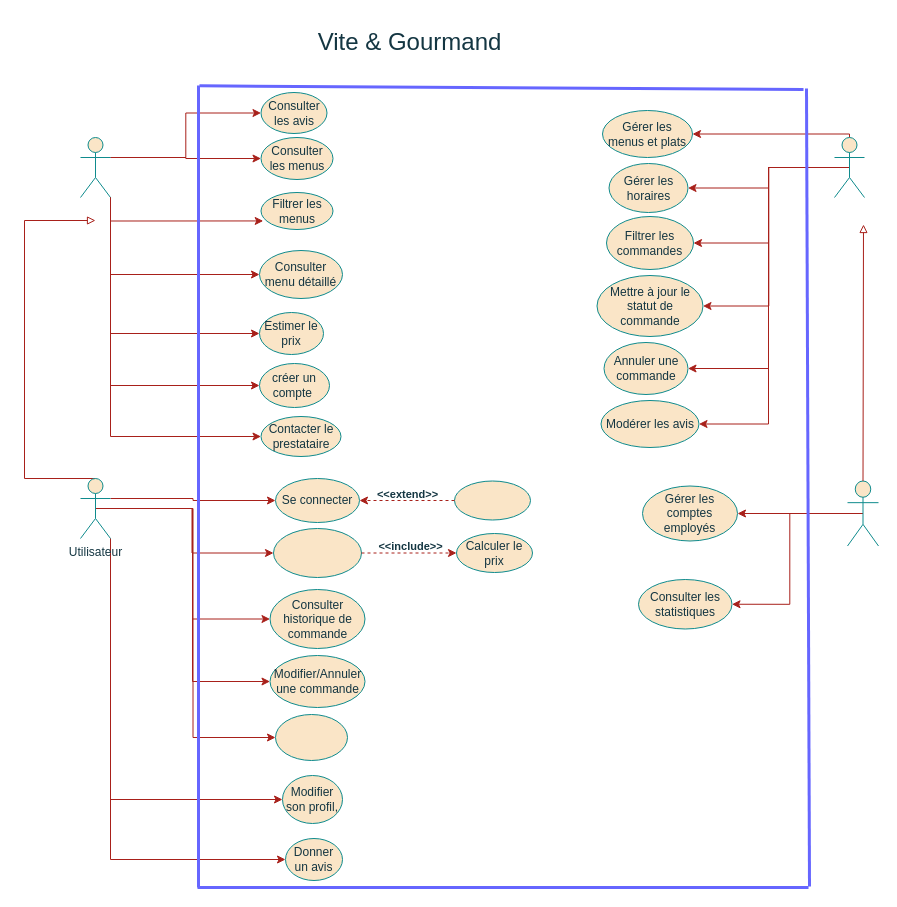
This 897x907 diagram has some shape labels left out. Here are the shapes that lost their labels. From the top down, the centre of each, then its label:
At [95,167]: "Visiteur".
At [849,167]: "Employé".
At [492,500]: "Réinitialiser un mdp".
At [862,513]: "Admin".
At [317,553]: "Passer une commande".
At [311,737]: "Suivre sa commande".
